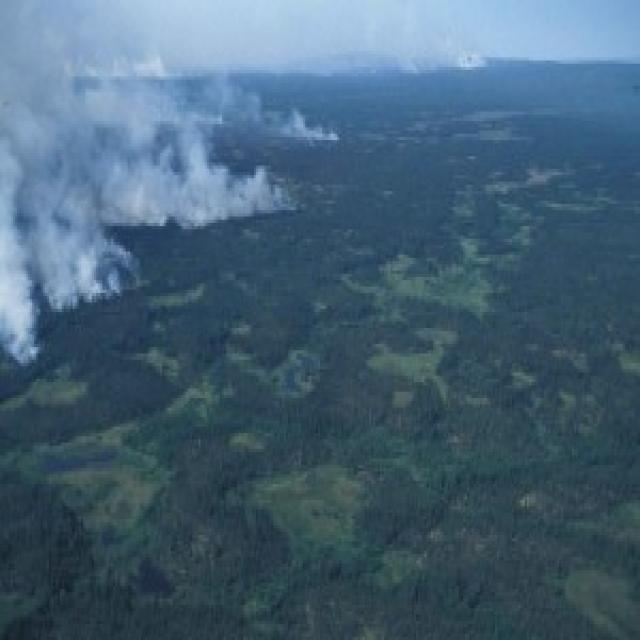Smoke: (0, 0, 363, 347)
